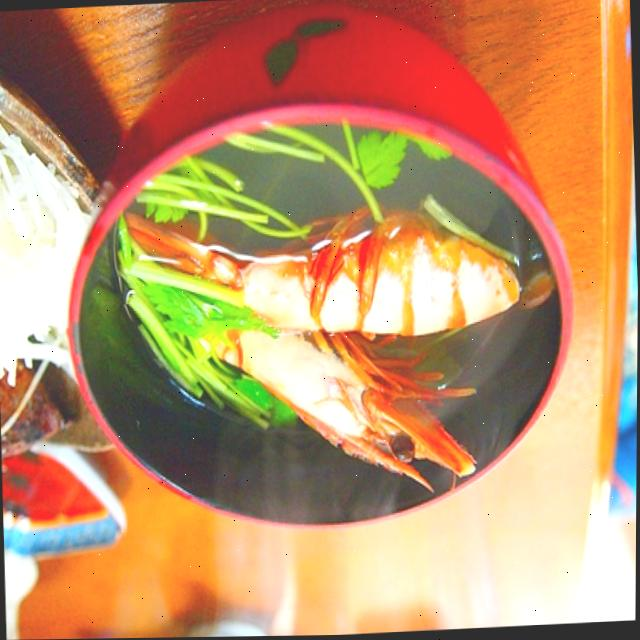汤锅炖物: (56, 41, 565, 566)
